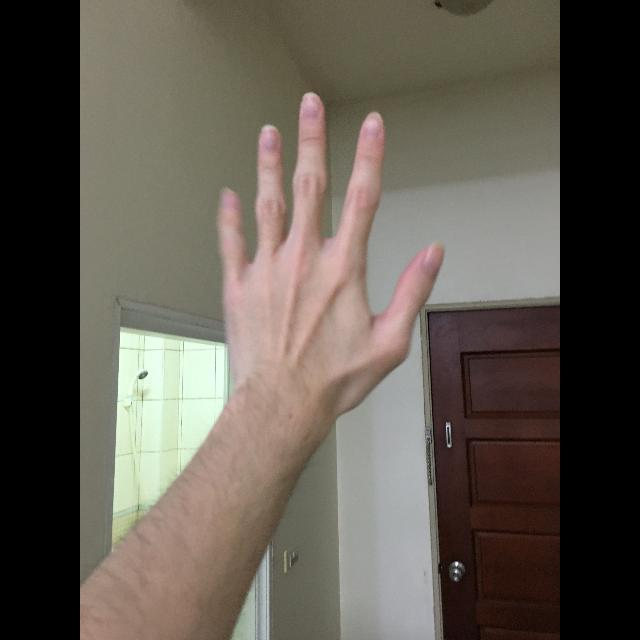bare_hand: (217, 88, 447, 402)
